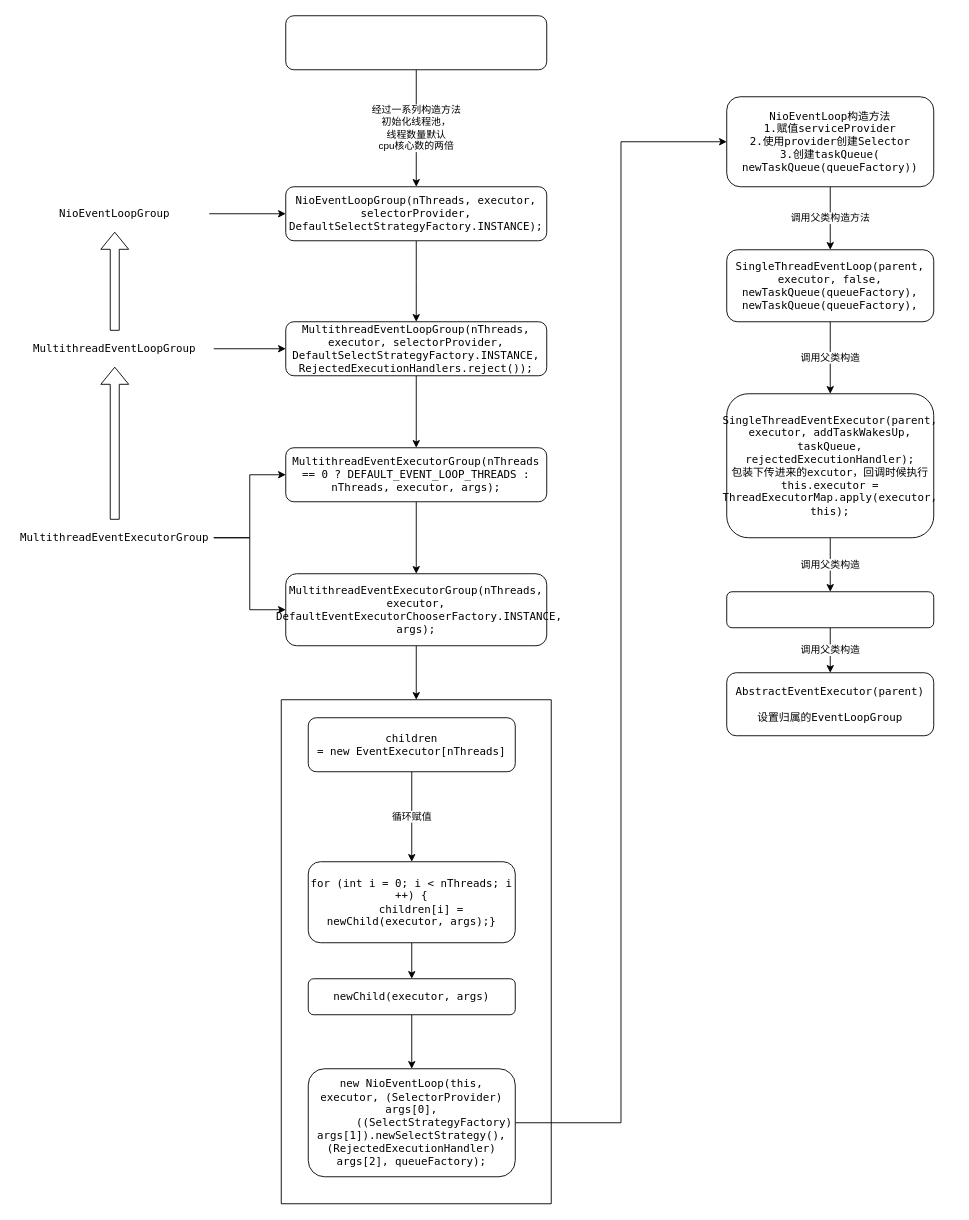
Some shapes in this 969 by 1220 pixel diagram are drawn without their labels. The centre of each missing label's shape, as x and y in pixels:
AbstractScheduledEventExecutor(parent): the point at 830,609
EventLoopGroup group = new NioEventLoopGroup(): the point at 416,42
